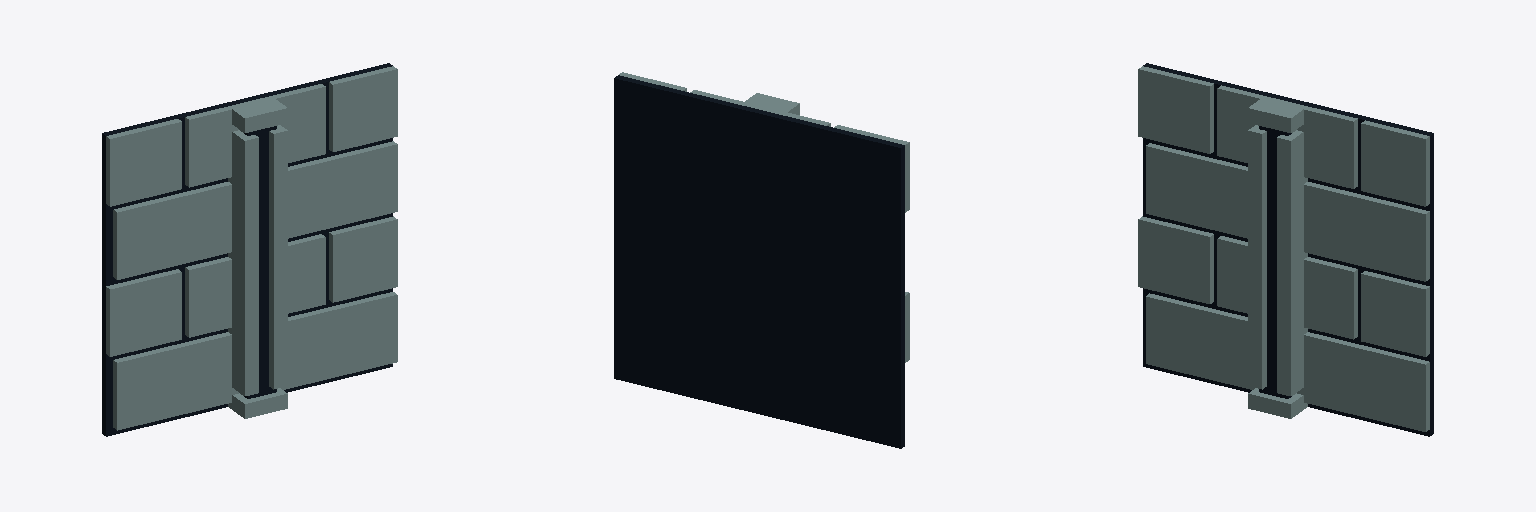
3 views of the same model, side by side, from view 1: azimuth 30°, elevation 25°; view 2: azimuth 150°, elevation 25°; view 3: azimuth 330°, elevation 25° (orthographic).
Parts seen in each view (by area): view 1: object 1; view 2: object 1; view 3: object 1.
Boxes of the visible parts, box(x1,y1,x2,y2) form: object 1: box(102, 63, 397, 436); object 1: box(614, 72, 909, 448); object 1: box(1138, 63, 1433, 436).
Bounding box in the file's own units: 4 × 4 × 0.5.
1 materials, 1 textured.